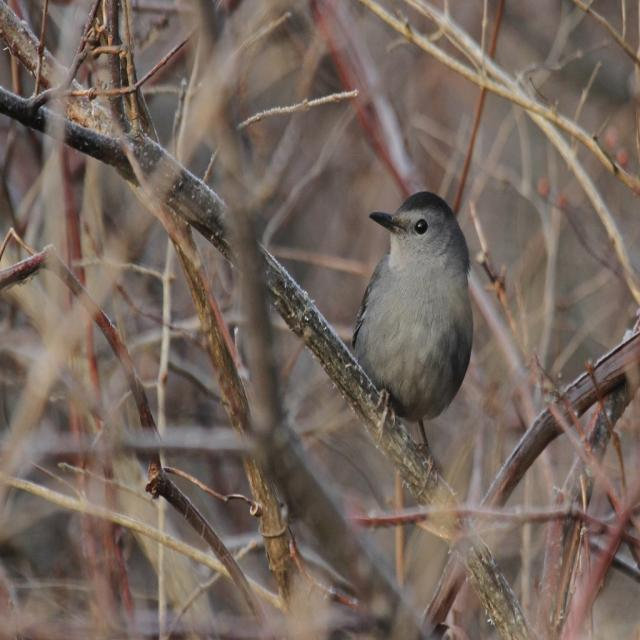bird: (346, 185, 514, 487)
